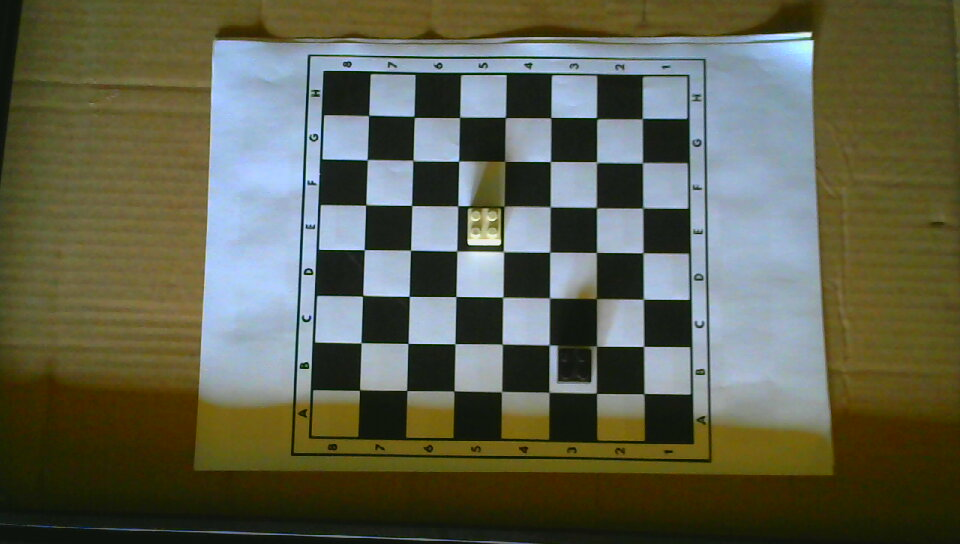bp: (556, 346, 592, 384)
wp: (465, 205, 502, 246)
